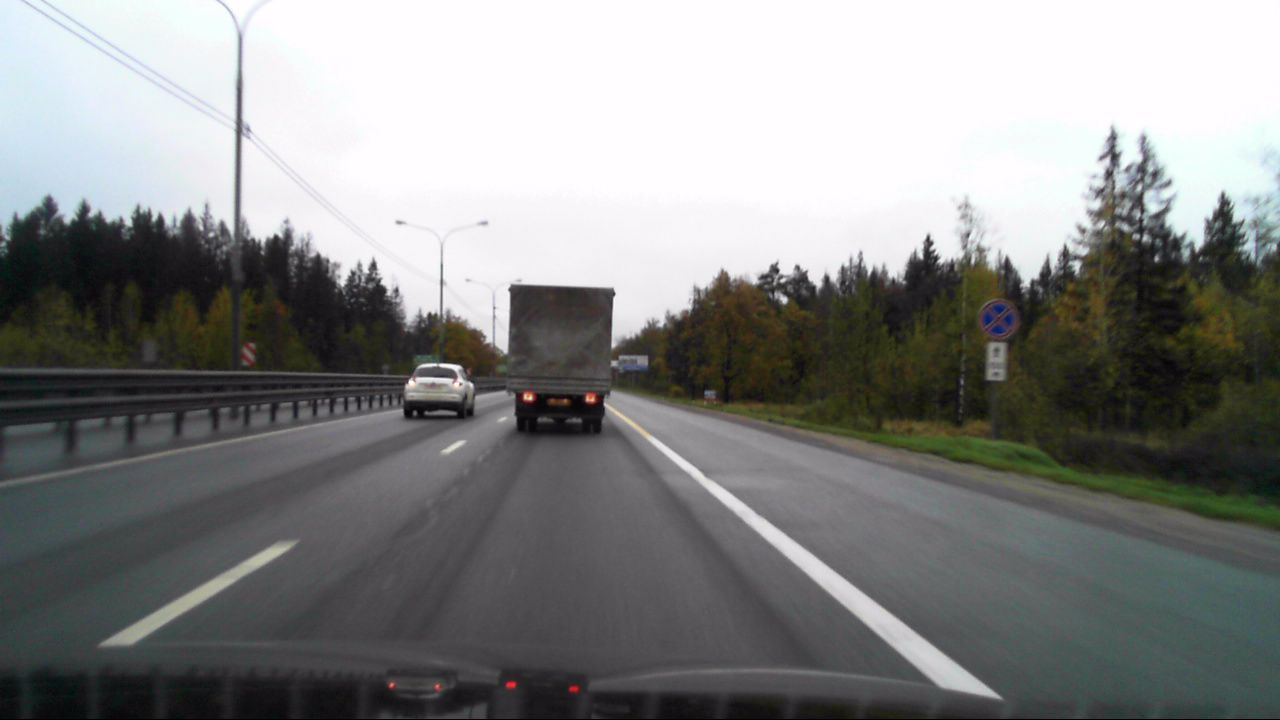No Parking: (977, 298, 1017, 338)
